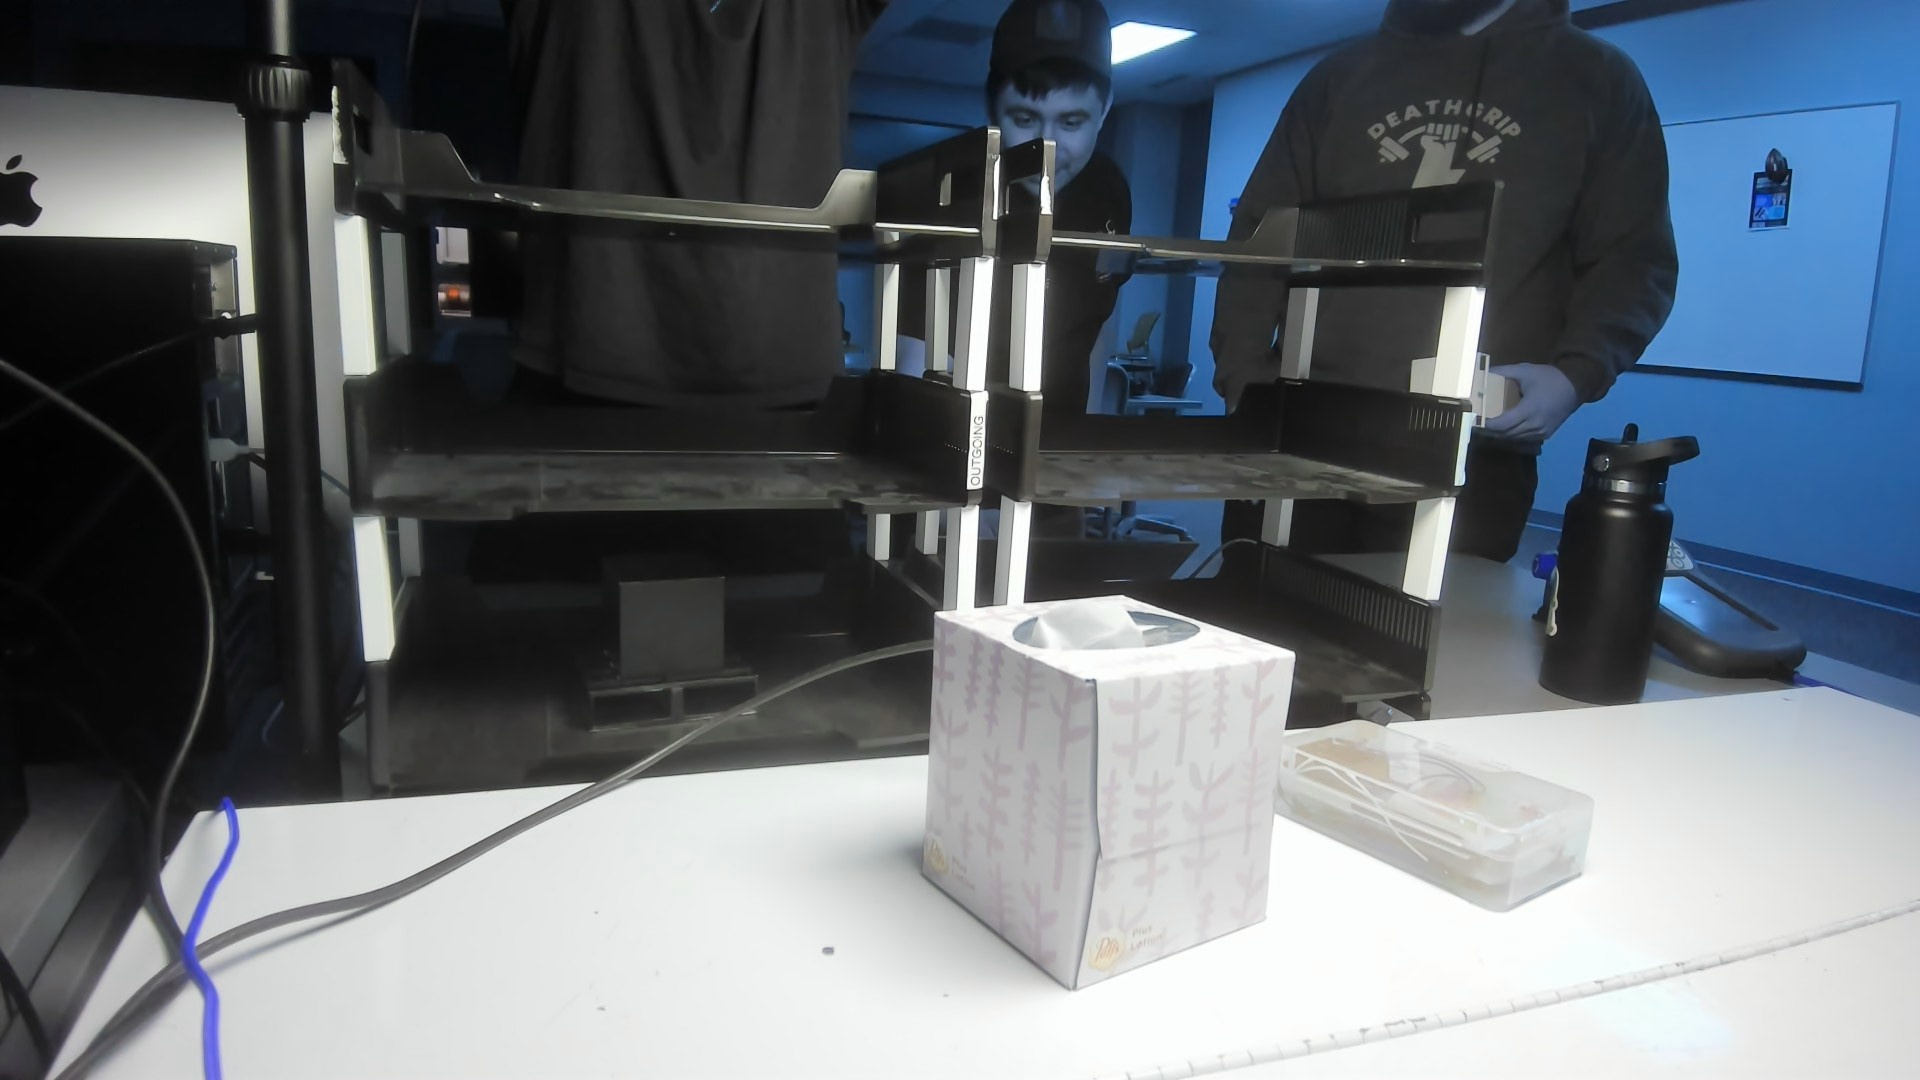black pallet: (556, 553, 771, 735)
